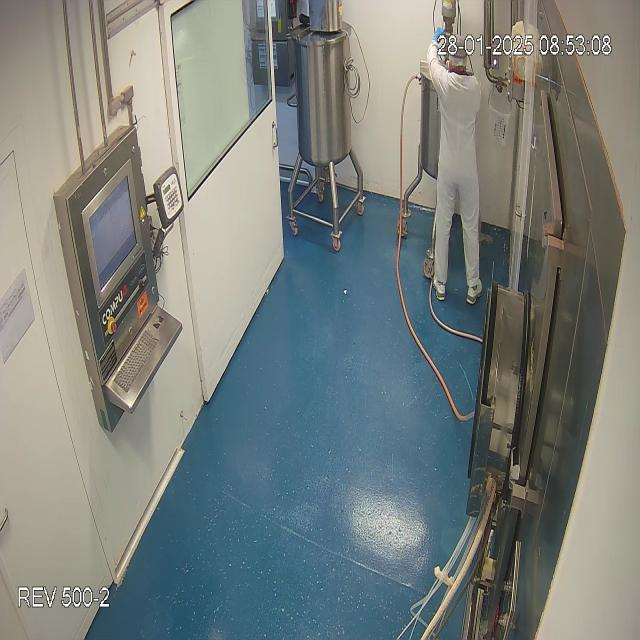pessoa: (428, 27, 484, 302)
touca: (434, 272, 486, 306), (445, 33, 471, 73)
